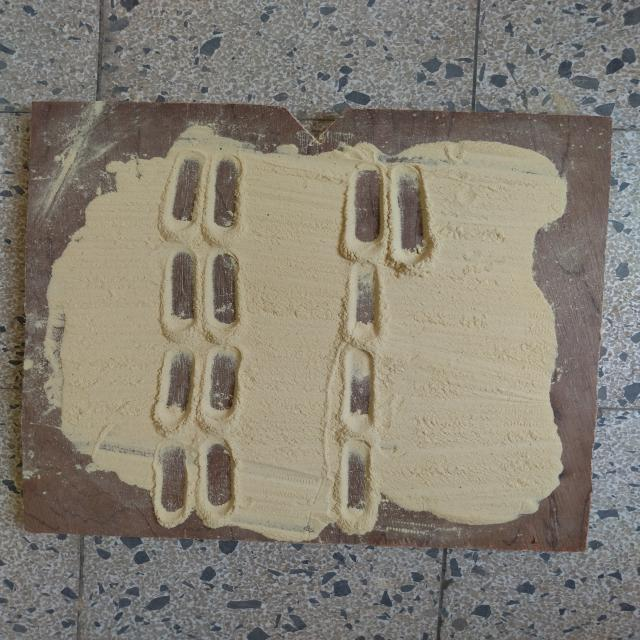double: (340, 158, 440, 269), (146, 434, 246, 534), (153, 144, 250, 242), (150, 340, 250, 434), (160, 244, 248, 338)
single: (334, 435, 384, 538), (333, 343, 385, 437), (339, 260, 391, 346)
